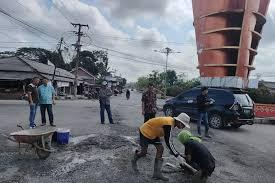Pothole: (64, 130, 123, 175)
